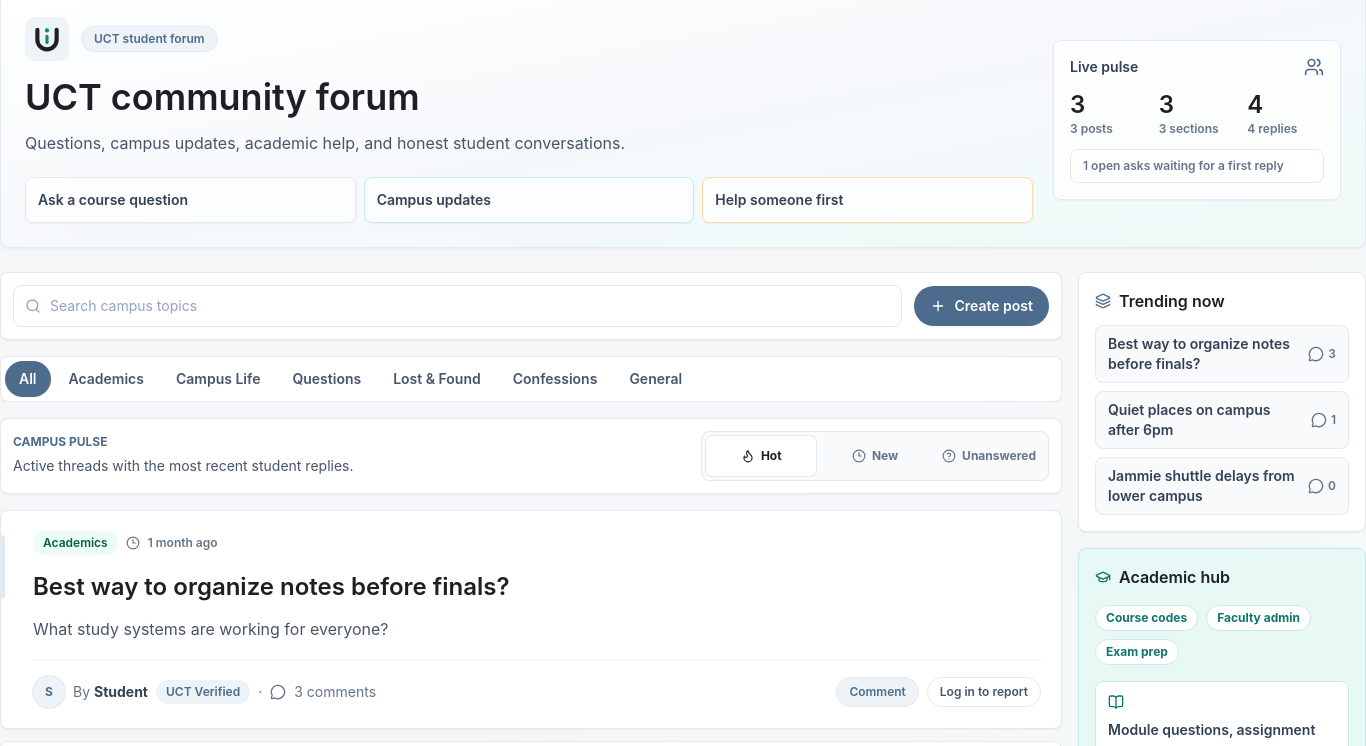
Test: HomePage › shows a compact empty state when a post search has no matches
Type "nonexistent" into the search field named "Search posts" at (458, 306), box [13,285,902,327]
(page scrolled)
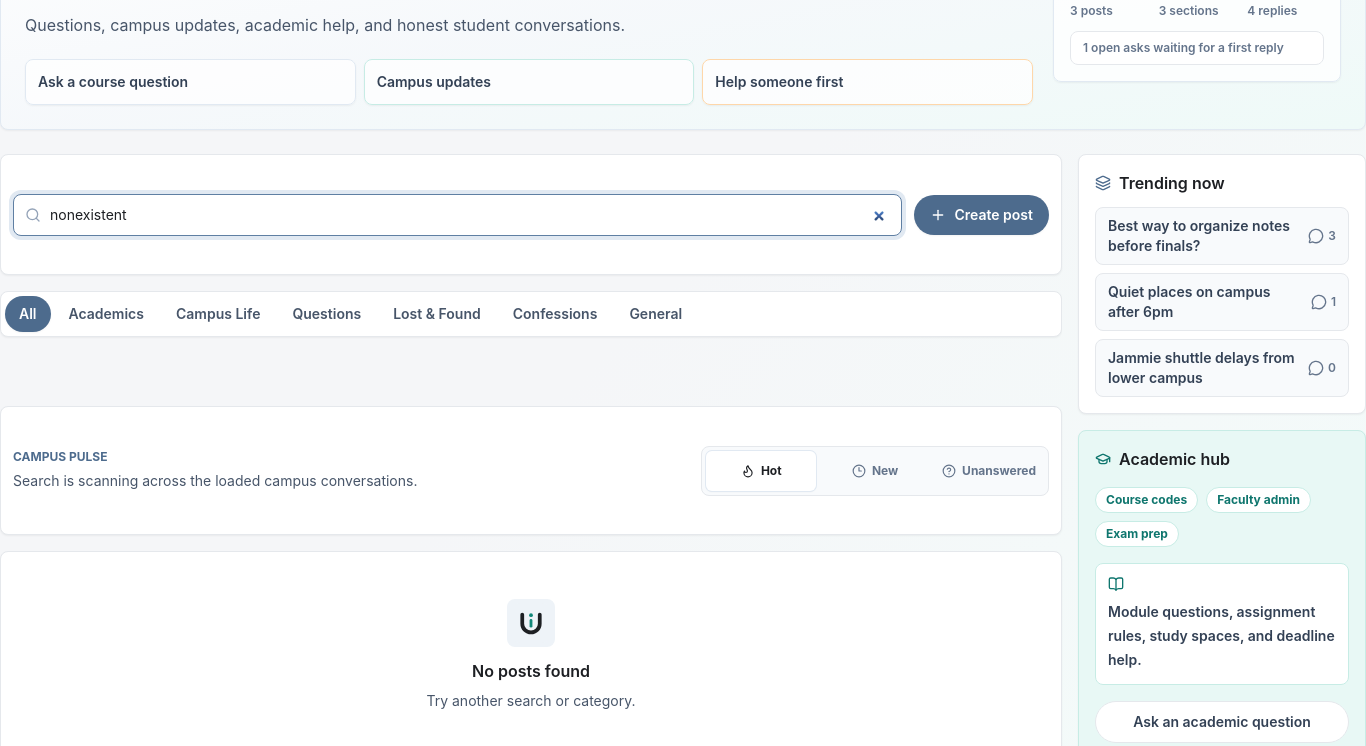
Now the heading "No posts found" is shown, box [472,660,590,680]
Now the text "Try another search or category." is shown, box [426,688,636,712]
